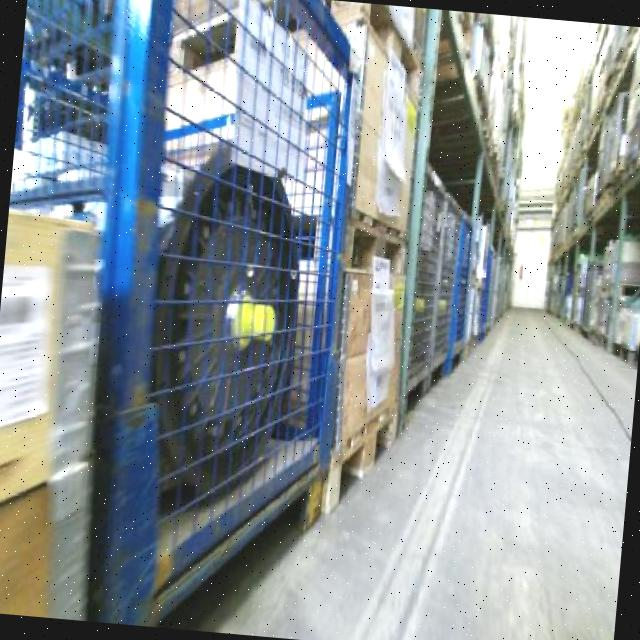pallet: (318, 391, 404, 532), (399, 342, 453, 423), (603, 341, 636, 377)
